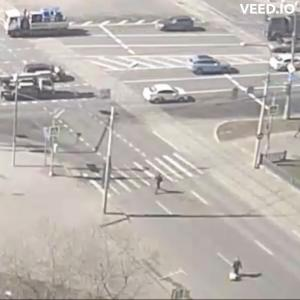car: (4, 9, 79, 40), (1, 74, 59, 100), (144, 85, 197, 107), (188, 56, 240, 78), (25, 61, 68, 83), (159, 17, 206, 34), (266, 19, 300, 41), (270, 51, 300, 74)
